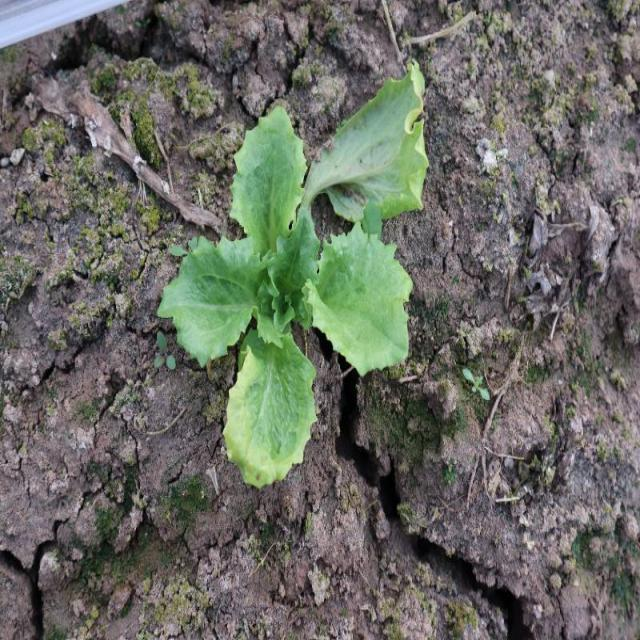crop: (159, 106, 411, 490)
